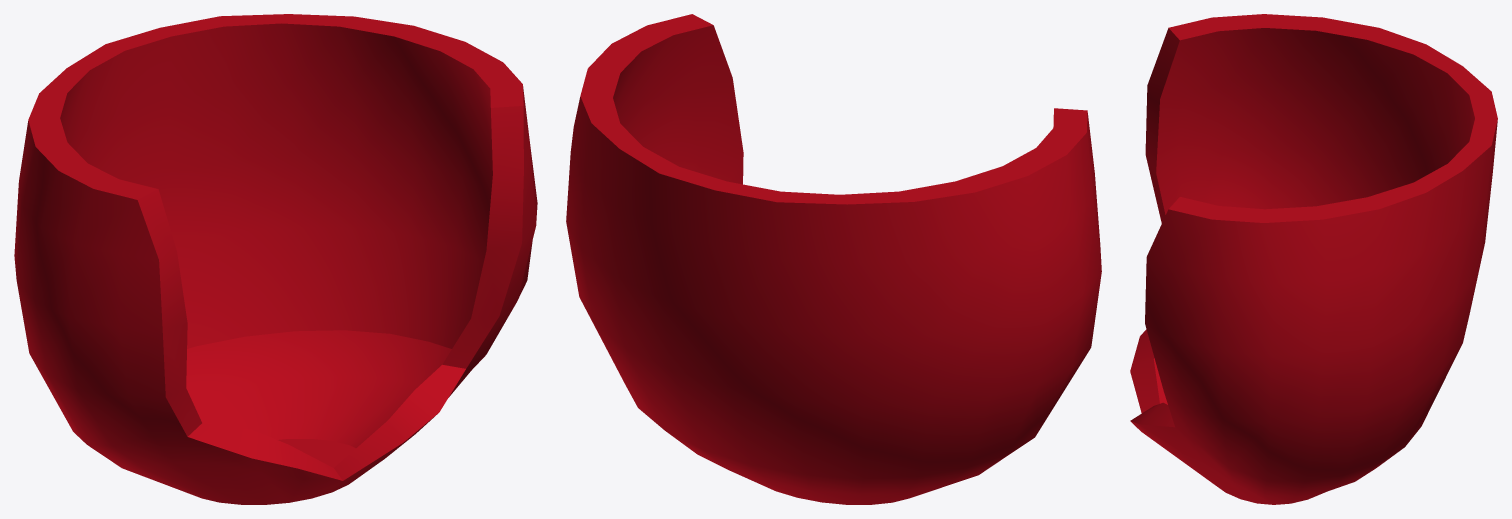
File: character_kingCloak.obj
3 renders of one model, left to right at view 1: azimuth 30°, elevation 25°; view 2: azimuth 150°, elevation 25°; view 3: azimuth 270°, elevation 25°, orthographic. The views are drawn at different scales.
Parts seen in each view (by area): view 1: character_kingCloak_Cube.242; view 2: character_kingCloak_Cube.242; view 3: character_kingCloak_Cube.242.
Boxes of the visible parts, bbox=[...] form: character_kingCloak_Cube.242: bbox=[14, 14, 537, 504]; character_kingCloak_Cube.242: bbox=[566, 14, 1101, 504]; character_kingCloak_Cube.242: bbox=[1130, 14, 1497, 504].
Size of the model in its own units: 0.9624 by 0.6825 by 0.6574.
